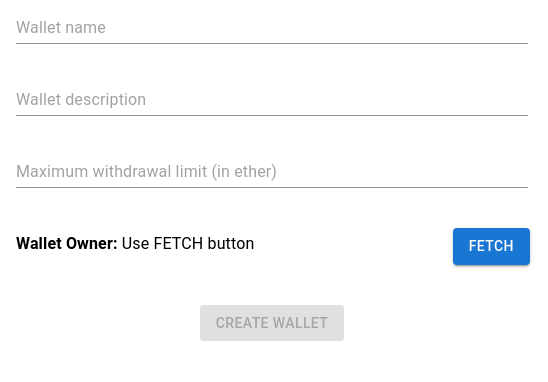
Test: CreateWallet › should display a wrong input error is max withdrawal limit is not a number
Step 1. Type "Wallet 1" into the field with placeholder "Wallet name" → (272, 28), box x1=16 y1=12 x2=528 y2=44
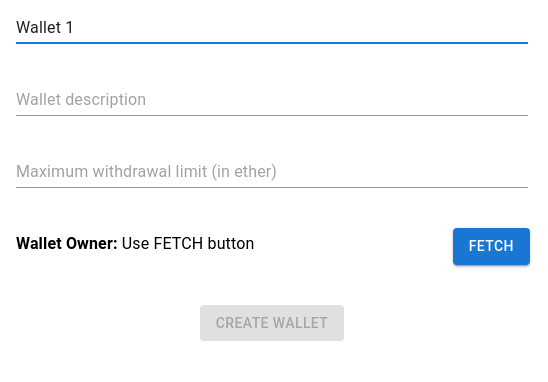
Step 2. Type "abc" into the field with placeholder "Maximum withdrawal limit (in ether)" → (272, 172), box x1=16 y1=156 x2=528 y2=188
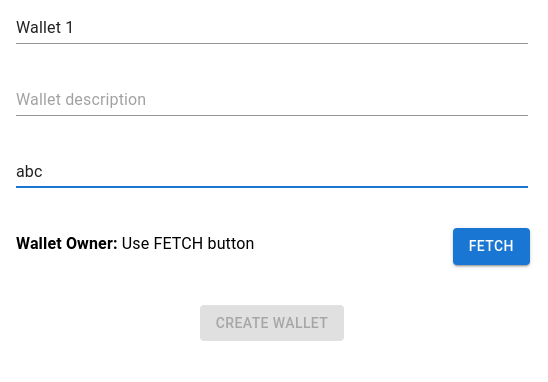
Step 3. Click the 1st field with placeholder "Wallet name" → (272, 28), box x1=16 y1=12 x2=528 y2=44
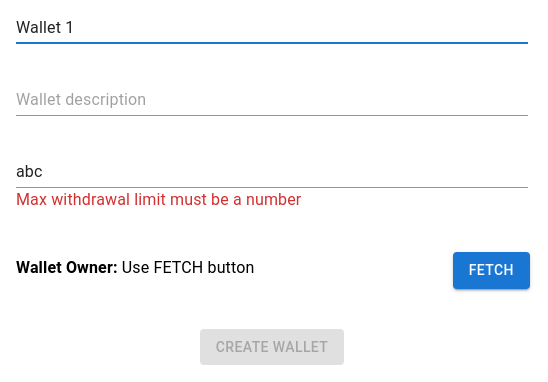
Expected: the button "Create Wallet" is disabled, x1=200 y1=328 x2=344 y2=365
Now the text "must be a number" is shown, box x1=16 y1=190 x2=301 y2=209
